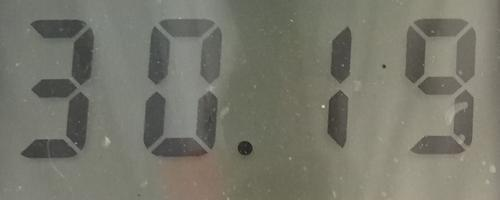.: (231, 133, 262, 165)
